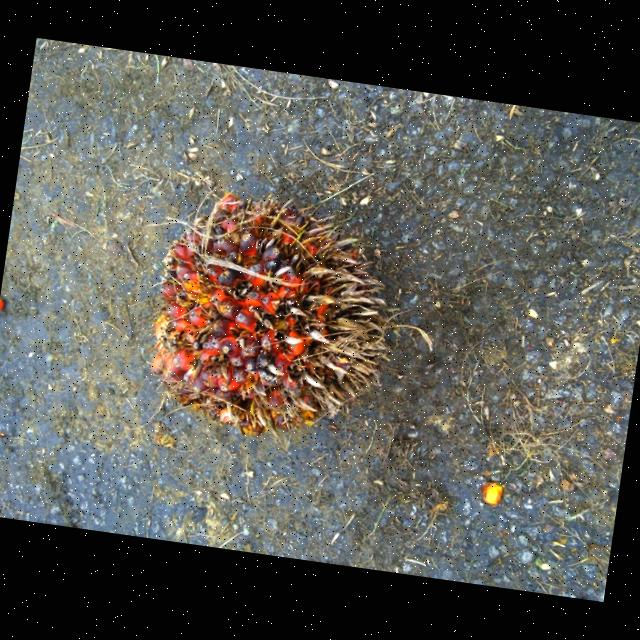Ripe: (145, 193, 385, 426)
